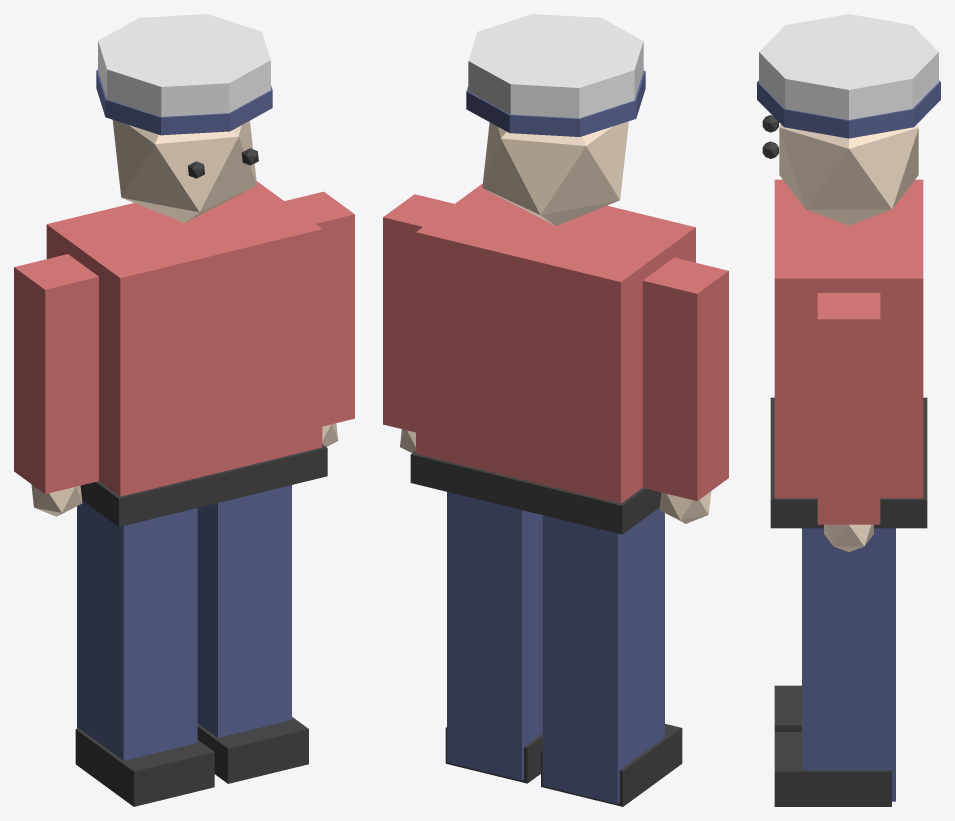
File: Sailor.fbx
3 renders of one model, left to right at view 1: azimuth 30°, elevation 25°; view 2: azimuth 150°, elevation 25°; view 3: azimuth 270°, elevation 25°, orthographic.
Visible parts, largest first — view 1: Body, Part_LegL, Part_Head, Part_LegR, Part_ArmL, Part_ArmR; view 2: Body, Part_LegL, Part_Head, Part_LegR, Part_ArmL, Part_ArmR; view 3: Body, Part_Head, Part_LegR, Part_ArmR, Part_LegL.
Part boxes in pixels (x1=…): Body: x1=46, y1=181, x2=327, y2=526; Part_LegL: x1=75, y1=500, x2=214, y2=806; Part_Head: x1=96, y1=14, x2=272, y2=222; Part_LegR: x1=197, y1=485, x2=308, y2=783; Part_ArmL: x1=14, y1=254, x2=98, y2=516; Part_ArmR: x1=284, y1=191, x2=354, y2=446; Body: x1=410, y1=183, x2=695, y2=534; Part_LegL: x1=541, y1=507, x2=682, y2=806; Part_Head: x1=466, y1=14, x2=645, y2=225; Part_LegR: x1=445, y1=492, x2=542, y2=783; Part_ArmL: x1=642, y1=257, x2=728, y2=523; Part_ArmR: x1=383, y1=194, x2=453, y2=452; Body: x1=770, y1=179, x2=927, y2=528; Part_Head: x1=757, y1=14, x2=940, y2=225; Part_LegR: x1=774, y1=528, x2=895, y2=806; Part_ArmR: x1=817, y1=293, x2=880, y2=551; Part_LegL: x1=774, y1=685, x2=801, y2=731.
Bounding box in the file's own units: 0.92 × 2.01 × 0.47.
